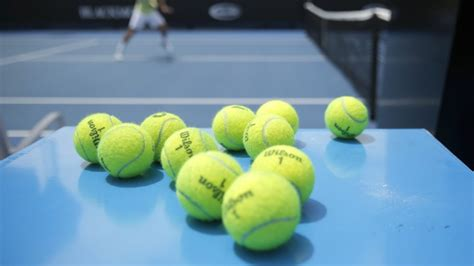tennis_ball: (221, 170, 301, 250), (175, 151, 244, 219), (251, 145, 314, 206), (97, 122, 156, 178), (159, 127, 218, 178), (74, 112, 122, 163), (243, 113, 295, 160), (141, 112, 187, 162), (212, 105, 255, 150), (323, 96, 368, 139), (255, 101, 299, 135)
